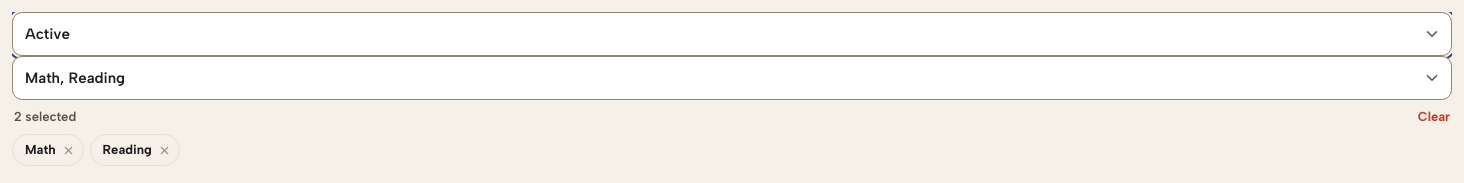
Test case: interactive UI primitives › supports keyboard selection and multi-select removal
The image size is (1464, 183).
Press Arrowdown Arrowdown Enter
Click the button with aria-label "Remove Math": (48, 150) x1=12 y1=134 x2=84 y2=166
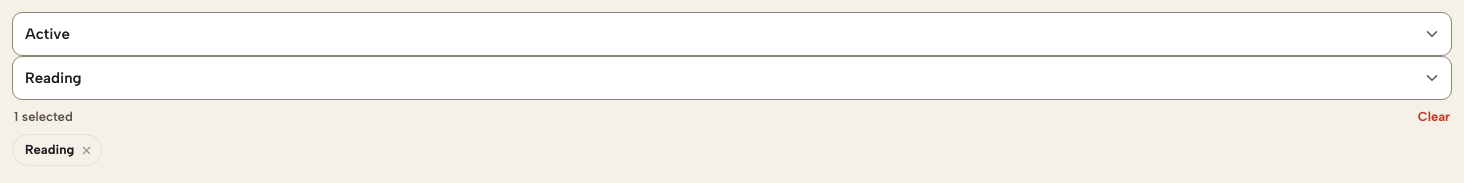
Expected: the text "1 selected" is shown, x1=14 y1=108 x2=73 y2=126
